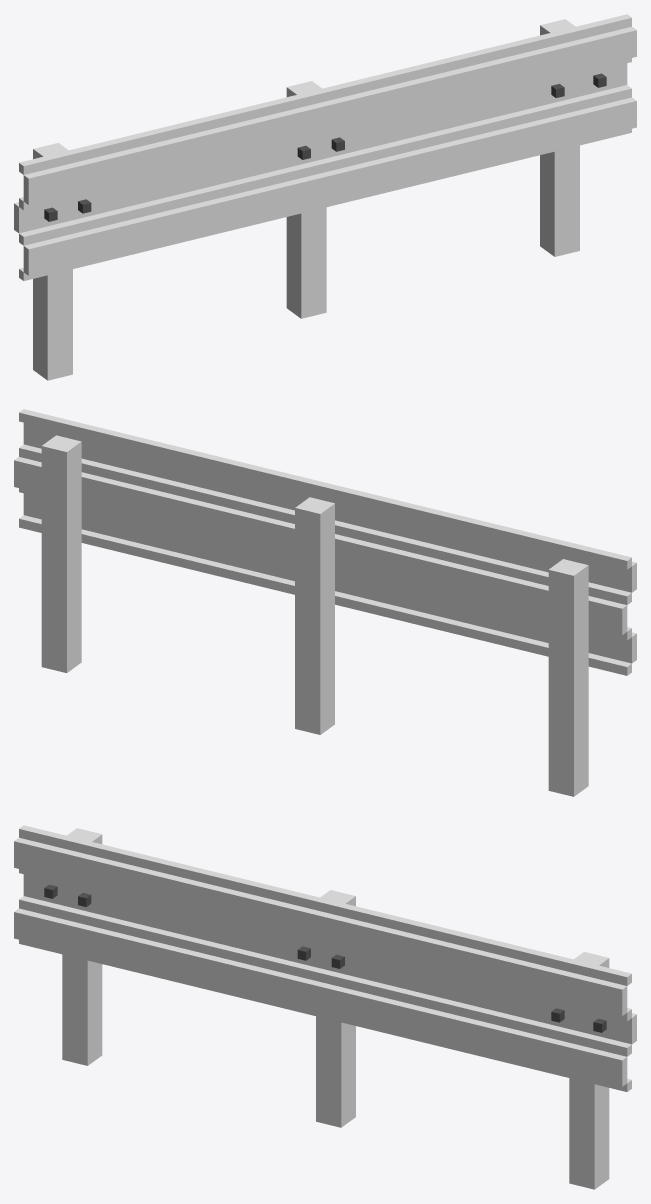
File: guardrail2.fbx
The picture shows the model from 3 angles, top to bottom: view 1: azimuth 30°, elevation 25°; view 2: azimuth 150°, elevation 25°; view 3: azimuth 330°, elevation 25°; orthographic projection.
Parts seen in each view (by area): view 1: guardrail2; view 2: guardrail2; view 3: guardrail2.
Boxes of the visible parts, left/top/right/bottom form: guardrail2: left=14, top=14, right=636, bottom=380; guardrail2: left=14, top=409, right=636, bottom=796; guardrail2: left=14, top=825, right=636, bottom=1189.
Size of the model in its own units: 7200 by 2600 by 600.
Materials: 1 (1 with a texture image).
